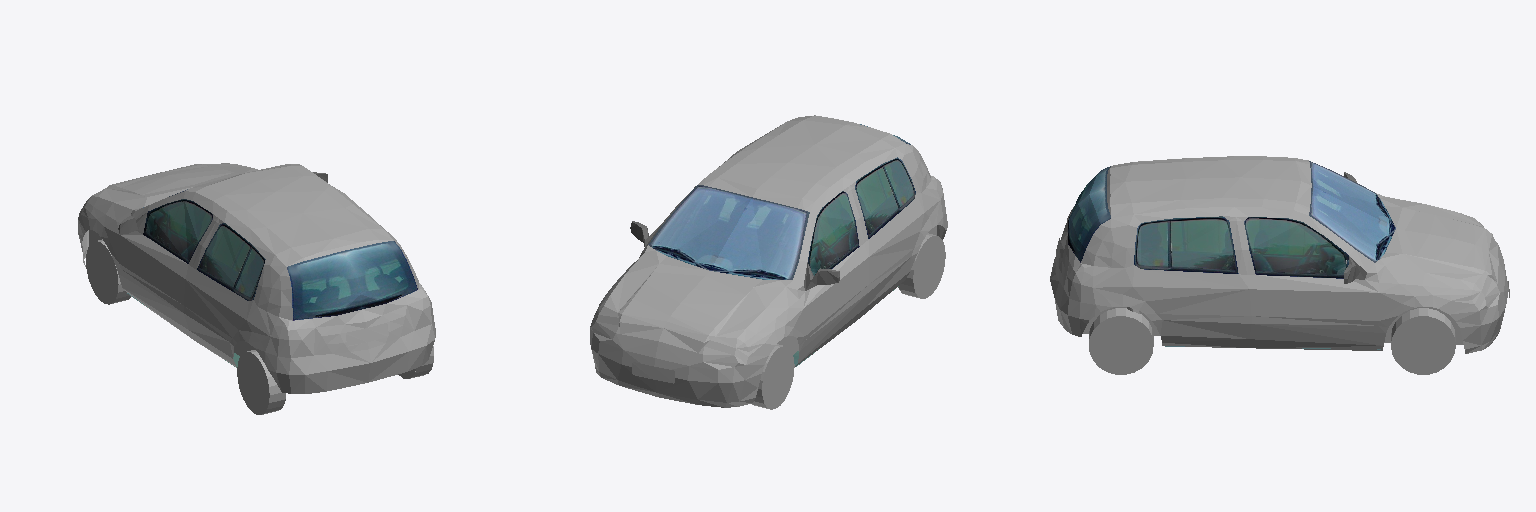
3 renders of one model, left to right at view 1: azimuth 30°, elevation 25°; view 2: azimuth 150°, elevation 25°; view 3: azimuth 270°, elevation 25°, orthographic.
Parts seen in each view (by area): view 1: Object_10TOP.jpg, Object_10GLASS4.jpg, Object_10BACK1.jpg, Object_10SIDE2.jpg, Object_10SIDE3.jpg, Object_10BACK2.jpg, Object_10HEAD2.jpg, Object_10SIDE4.jpg, Object_10GLASS3.jpg, Object_10TYRE.jpg, Object_10GLASS2.jpg, Object_10SIDE1.jpg (+3 smaller); view 2: Object_10HEAD2.jpg, Object_10GLASS1.jpg, Object_10TOP.jpg, Object_10SIDE2.jpg, Object_10HEAD1.jpg, Object_10SIDE3.jpg, Object_10SIDE1.jpg, Object_10GLASS3.jpg, Object_10TYRE.jpg, Object_10GLASS2.jpg, Object_10SIDE4.jpg, Object_10SPOT1.jpg (+3 smaller); view 3: Object_10SIDE2.jpg, Object_10TOP.jpg, Object_10SIDE3.jpg, Object_10HEAD2.jpg, Object_10TYRE.jpg, Object_10GLASS3.jpg, Object_10GLASS1.jpg, Object_10GLASS2.jpg, Object_10SIDE4.jpg, Object_10SIDE1.jpg, Object_10GLASS4.jpg, Object_10HEAD1.jpg (+5 smaller).
Part boxes in pixels (left/top/right/bottom): Object_10TOP.jpg: left=186, top=164, right=393, bottom=266; Object_10GLASS4.jpg: left=287, top=241, right=417, bottom=320; Object_10BACK1.jpg: left=255, top=320, right=435, bottom=393; Object_10SIDE2.jpg: left=118, top=179, right=334, bottom=340; Object_10SIDE3.jpg: left=183, top=187, right=388, bottom=366; Object_10BACK2.jpg: left=293, top=290, right=422, bottom=354; Object_10HEAD2.jpg: left=92, top=163, right=257, bottom=210; Object_10SIDE4.jpg: left=230, top=230, right=428, bottom=356; Object_10GLASS3.jpg: left=127, top=223, right=265, bottom=367; Object_10TYRE.jpg: left=86, top=241, right=415, bottom=414; Object_10GLASS2.jpg: left=143, top=199, right=212, bottom=263; Object_10SIDE1.jpg: left=78, top=196, right=134, bottom=272; Object_10HEAD2.jpg: left=592, top=245, right=792, bottom=369; Object_10GLASS1.jpg: left=648, top=185, right=809, bottom=279; Object_10TOP.jpg: left=698, top=115, right=905, bottom=211; Object_10SIDE2.jpg: left=644, top=152, right=868, bottom=366; Object_10HEAD1.jpg: left=590, top=328, right=768, bottom=407; Object_10SIDE3.jpg: left=732, top=125, right=924, bottom=317; Object_10SIDE1.jpg: left=590, top=247, right=805, bottom=366; Object_10GLASS3.jpg: left=793, top=157, right=915, bottom=366; Object_10TYRE.jpg: left=762, top=235, right=945, bottom=409; Object_10GLASS2.jpg: left=808, top=191, right=859, bottom=275; Object_10SIDE4.jpg: left=896, top=144, right=945, bottom=270; Object_10SPOT1.jpg: left=592, top=306, right=748, bottom=362; Object_10SIDE2.jpg: left=1235, top=207, right=1385, bottom=350; Object_10TOP.jpg: left=1110, top=156, right=1311, bottom=217; Object_10SIDE3.jpg: left=1125, top=207, right=1251, bottom=347; Object_10HEAD2.jpg: left=1376, top=193, right=1505, bottom=307; Object_10TYRE.jpg: left=1089, top=308, right=1455, bottom=374; Object_10GLASS3.jpg: left=1134, top=216, right=1380, bottom=349; Object_10GLASS1.jpg: left=1309, top=161, right=1395, bottom=262; Object_10GLASS2.jpg: left=1244, top=217, right=1348, bottom=278; Object_10SIDE4.jpg: left=1081, top=215, right=1162, bottom=334; Object_10SIDE1.jpg: left=1375, top=263, right=1487, bottom=332; Object_10GLASS4.jpg: left=1068, top=166, right=1110, bottom=262; Object_10HEAD1.jpg: left=1450, top=264, right=1508, bottom=353.
Size of the model in its own units: 1.31 by 0.9421 by 2.5.
22 materials, 5 textured.